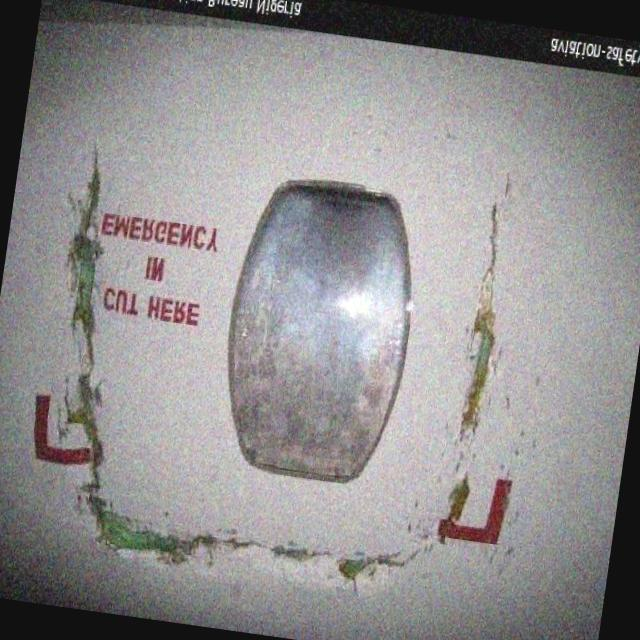crack: (28, 141, 520, 604)
